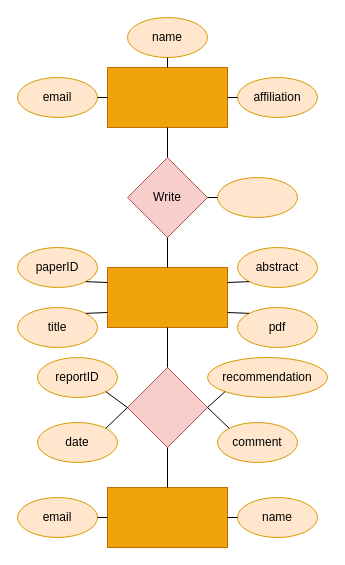
This 345x565 diagram has some shape labels left out. Here are the shapes that lost their labels. From the top down, the centre of each, then its label:
At [167,97]: "Author".
At [257,197]: "order".
At [167,297]: "Paper".
At [167,407]: "Review".
At [167,517]: "PCMember".
